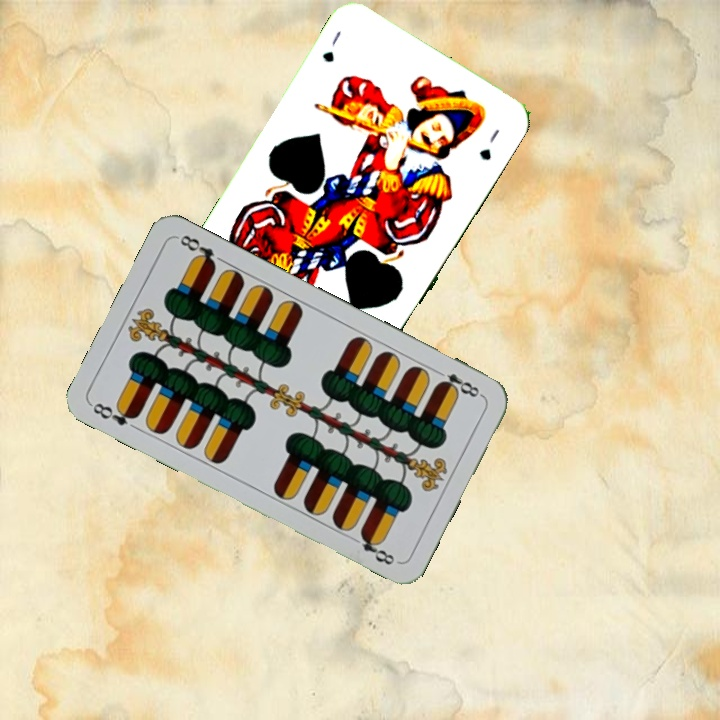E8: (431, 365, 486, 400), (87, 398, 142, 429)
GU: (318, 26, 344, 66)
